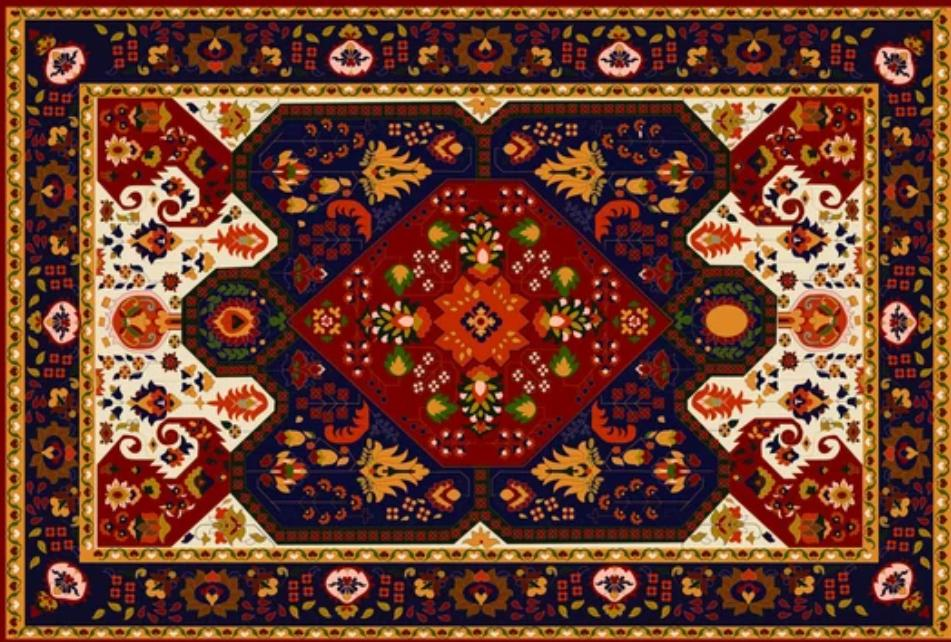carpet: (7, 7, 951, 635)
